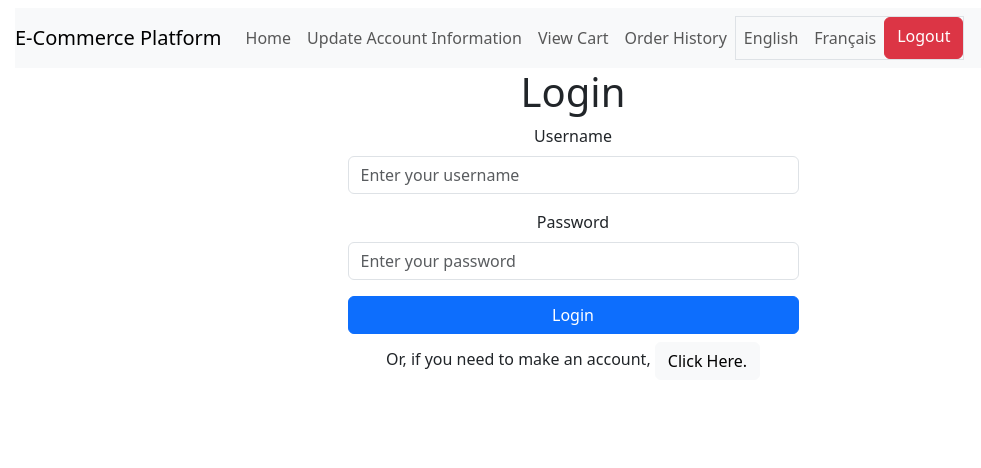
Test: Login Component › shows error on invalid login credentials
This screenshot has width=981, height=468.
Type "wronguser" into the field labelled "Username". click: [573, 175]
box: left=348, top=156, right=798, bottom=194
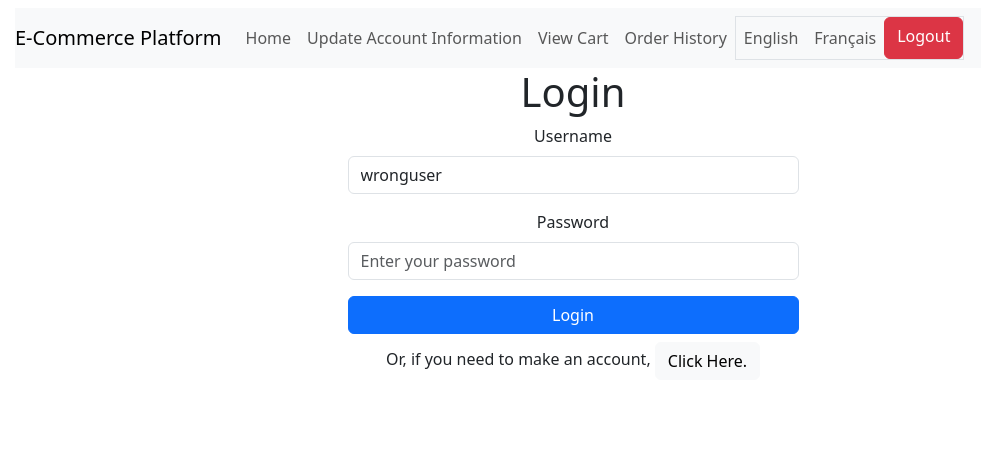
Type "wrongpass" into the password field labelled "Password". click: [573, 261]
box: left=348, top=242, right=798, bottom=280
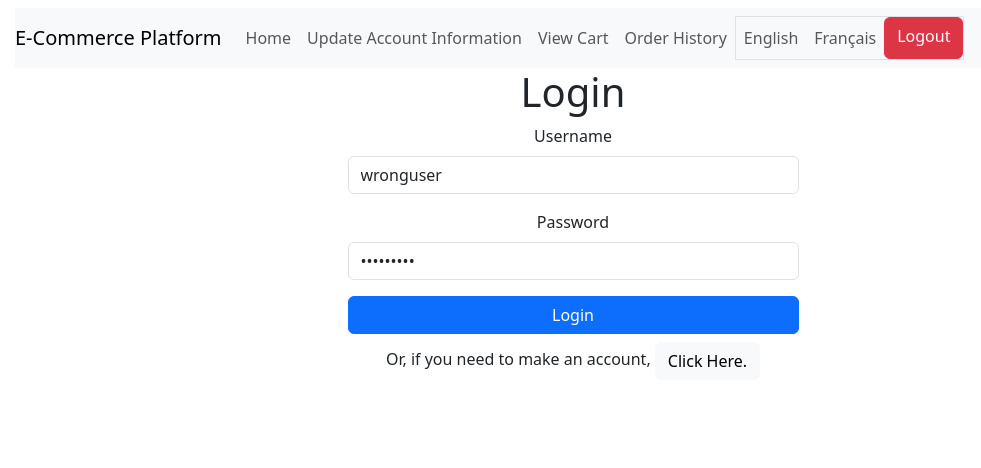
Click the button "Login". click: [573, 315]
box: left=348, top=296, right=798, bottom=334
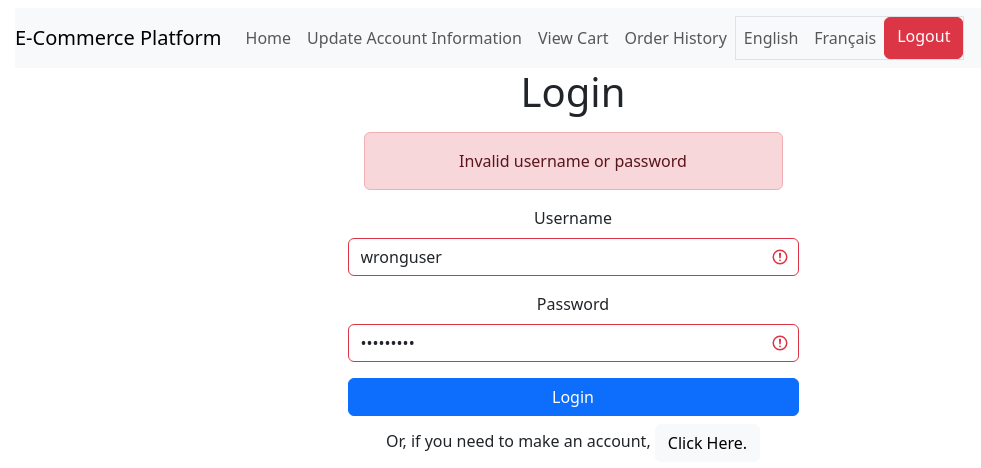
Expected: the text "Invalid username or password" is shown, left=364, top=132, right=782, bottom=190
